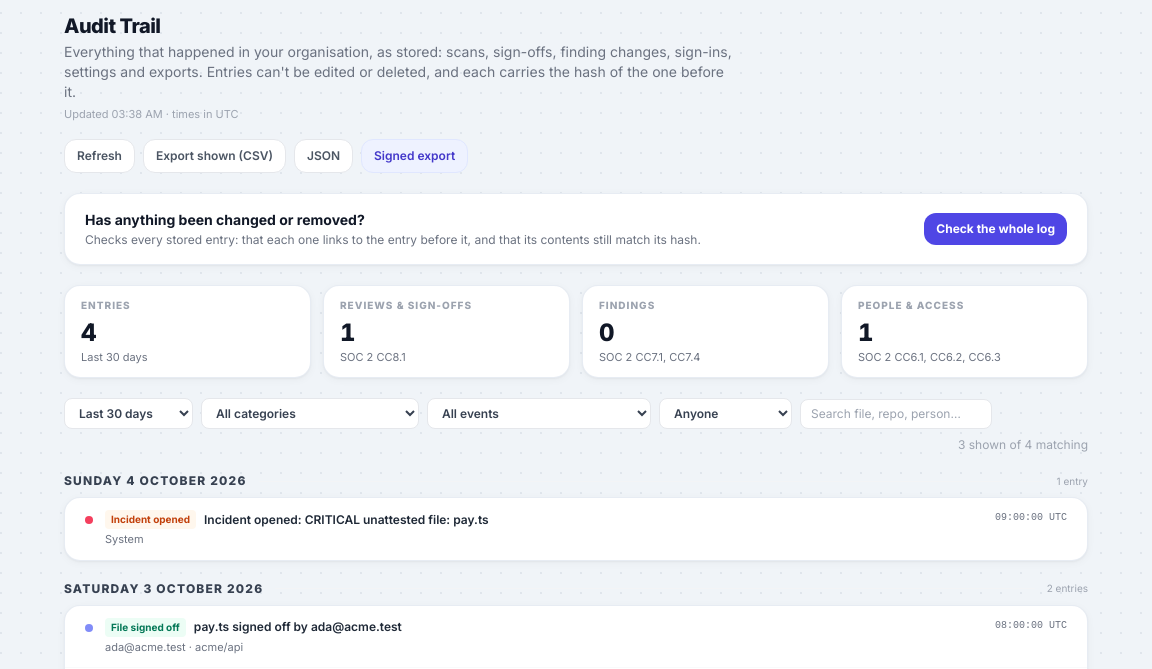
Test: Audit Trail page › the chain check says what it checked, including entries it can only link-check
The width and height of the screenshot is (1152, 669).
Expected: the text "Incident opened" is shown, [105,510,196,529]
Click the button "Check the whole log" at (996, 228), box [924,212,1067,244]
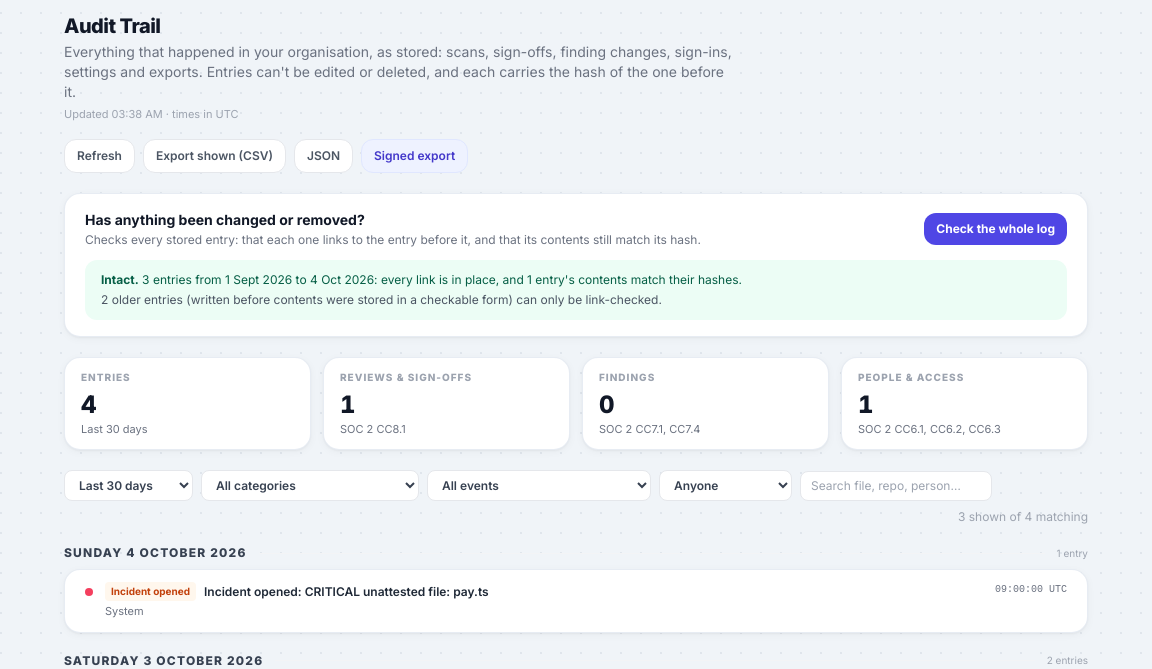
Expected: the message shows "Intact. 3 entries from 1 Sept 2026 to 4 Oct 2026: every link is in place, and 1 entry's contents match their hashes.", [85,260,1067,320]
Expected: the message shows "2 older entries (written before contents were stored in a checkable form) can only be link-checked.", [85,260,1067,320]
